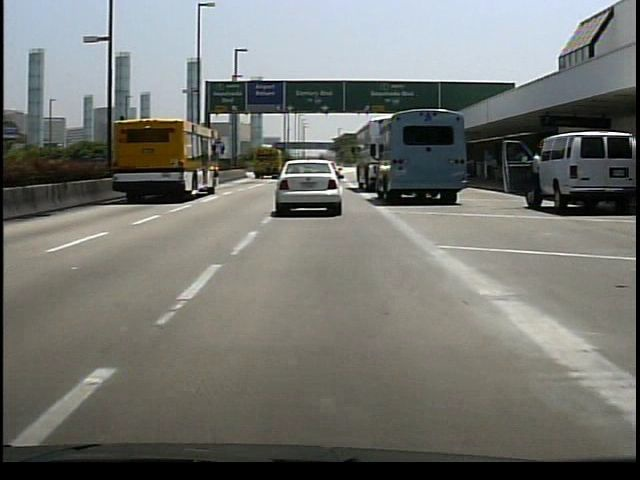person: (528, 138, 545, 217)
